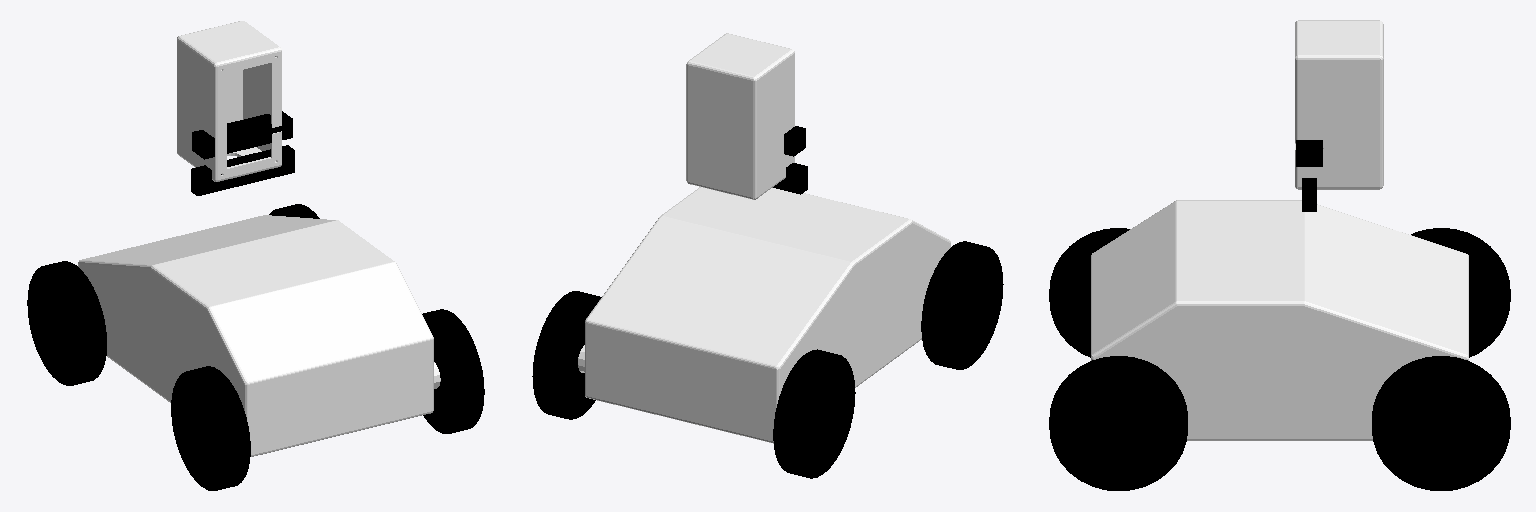
robot.urdf — occhibot:
<?xml version="1.0"?>
<robot name="occhibot">
	<link name="base_link">
		<visual>
			<geometry>
            <mesh filename="package://occhibot/meshes/Base_link.stl"/>
			</geometry>
			<origin rpy="0 0 0" xyz="0 0 0"/>
			<material name="white">
				<color rgba="1 1 1 1"/>
			</material>
		</visual>
	</link>

	

	<link name="wheel_1">
		<visual>
			<geometry>
				<cylinder length="0.02" radius="0.05969"/>
			</geometry>
			<origin rpy="0 1.57 0" xyz="0.13 0.13843 0"/>
			<material name="black">
				<color rgba="0 0 0 1"/>
			</material>
		</visual>
	</link>

	<link name="wheel_2">
		<visual>
			<geometry>
				<cylinder length="0.02" radius="0.05969"/>
			</geometry>
			<origin rpy="0 1.57 0" xyz="-0.13 0.13843 0"/>
			<material name="black"/>
		</visual>
	</link>

	<link name="wheel_3">
		<visual>
			<geometry>
				<cylinder length="0.02" radius="0.05969"/>
			</geometry>
			<origin rpy="0 1.57 0" xyz="0.13 -0.13843 0"/>
			<material name="black"/>
		</visual>
	</link>

	<link name="wheel_4">
		<visual>
			<geometry>
				<cylinder length="0.02" radius="0.05969"/>
			</geometry>
			<origin rpy="0 1.57 0" xyz="-0.13 -0.13843 0"/>
			<material name="black"/>
		</visual>
	</link>

	  <!-- Accesorios -->

	<link name="link_2">
		<visual>
			<geometry>
            <mesh filename="package://occhibot/meshes/link2.stl"/>
			</geometry>
			<origin rpy="0 0 0" xyz="0 -0.0212244 0.103505"/>
			<origin rpy="0 0 0" xyz="0 0.0508 0.1778"/>
			<material name="white">
			</material>
		</visual>
	</link>

	<link name="t265_cam">
		<visual>
			<geometry>
            <box size="0.108 0.0125 0.0245"/>
			</geometry>
			<origin rpy="0 0 0" xyz="0 0.0254 0.1778"/>
			<material name="black">
			</material>
		</visual>
	</link>

	<link name="D415_cam">
		<visual>
			<geometry>
            <box size="0.099 0.023 0.020"/>
			</geometry>
			<origin rpy="0 0 0" xyz="0 0.0254 0.2159"/>
			<material name="black">
			</material>
		</visual>
	</link>




          <!-- Accesorios End-->

	<joint name="base_to_wheel1" type="fixed">
		<parent link="base_link"/>
		<child link="wheel_1"/>
		<origin xyz="0 0 0"/>
	</joint>

	<joint name="base_to_wheel2" type="fixed">
		<parent link="base_link"/>
		<child link="wheel_2"/>
		<origin xyz="0 0 0"/>
	</joint>

	<joint name="base_to_wheel3" type="fixed">
		<parent link="base_link"/>
		<child link="wheel_3"/>
		<origin xyz="0 0 0"/>
	</joint>

	<joint name="base_to_wheel4" type="fixed">
		<parent link="base_link"/>
		<child link="wheel_4"/>
		<origin xyz="0 0 0"/>
	</joint>


	<joint name="base_to_link2" type="fixed">
		<parent link="base_link"/>
		<child link="link_2"/>
		<origin xyz="0 0 0"/>
	</joint>

	<joint name="base_to_t265cam" type="fixed">
		<parent link="base_link"/>
		<child link="t265_cam"/>
		<origin xyz="0 0 0"/>
	</joint>

	<joint name="base_to_D415cam" type="fixed">
		<parent link="base_link"/>
		<child link="D415_cam"/>
		<origin xyz="0 0 0"/>
	</joint>



</robot>

--- What the picture shows (computed from the rendered views, not written in the file) ---
The picture shows the robot from 3 angles, left to right: view 1: azimuth 30°, elevation 25°; view 2: azimuth 150°, elevation 25°; view 3: azimuth 270°, elevation 25°; orthographic projection.
Robot: occhibot — 8 links, 7 joints (7 fixed); root link base_link; default pose: all joints at 0.
Visible links, largest first — view 1: base_link, link_2, wheel_2, wheel_4, wheel_3, D415_cam, t265_cam; view 2: base_link, link_2, wheel_2, wheel_4, wheel_1, t265_cam, D415_cam; view 3: base_link, wheel_1, wheel_3, link_2, wheel_2, wheel_4, D415_cam.
Link boxes in pixels (bbox=[...]): base_link: bbox=[78, 215, 440, 456]; link_2: bbox=[177, 21, 281, 181]; wheel_2: bbox=[27, 261, 106, 385]; wheel_4: bbox=[171, 366, 250, 490]; wheel_3: bbox=[422, 309, 484, 433]; D415_cam: bbox=[192, 111, 292, 159]; t265_cam: bbox=[191, 145, 294, 195]; base_link: bbox=[578, 187, 950, 443]; link_2: bbox=[686, 33, 794, 199]; wheel_2: bbox=[773, 349, 855, 478]; wheel_4: bbox=[921, 241, 1003, 369]; wheel_1: bbox=[532, 291, 601, 419]; t265_cam: bbox=[773, 163, 807, 194]; D415_cam: bbox=[784, 126, 805, 156]; base_link: bbox=[1091, 200, 1468, 440]; wheel_1: bbox=[1372, 356, 1510, 490]; wheel_3: bbox=[1049, 356, 1187, 490]; link_2: bbox=[1295, 20, 1383, 189]; wheel_2: bbox=[1411, 228, 1510, 357]; wheel_4: bbox=[1049, 228, 1129, 357]; D415_cam: bbox=[1296, 140, 1322, 166].
Size in the robot's own frame: 0.2801 by 0.3962 by 0.3645 metres.
Meshes: 2 distinct files referenced, 2 mesh visuals loaded (2 binary STL).
